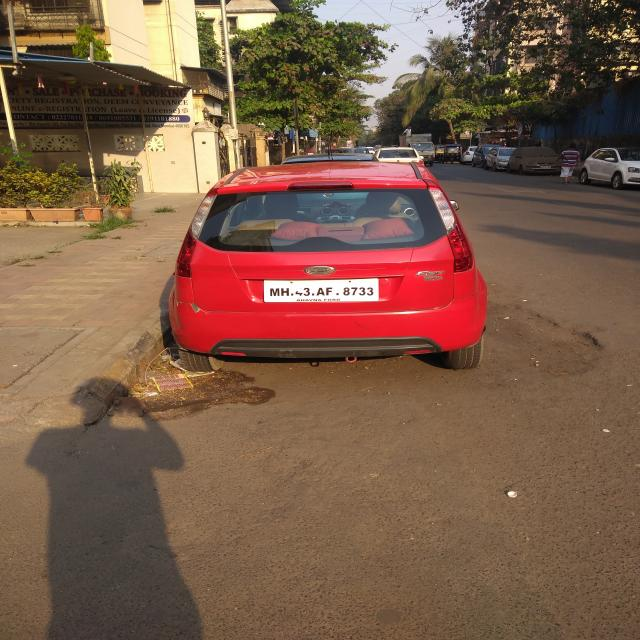Number-Plate: (270, 280, 376, 302)
